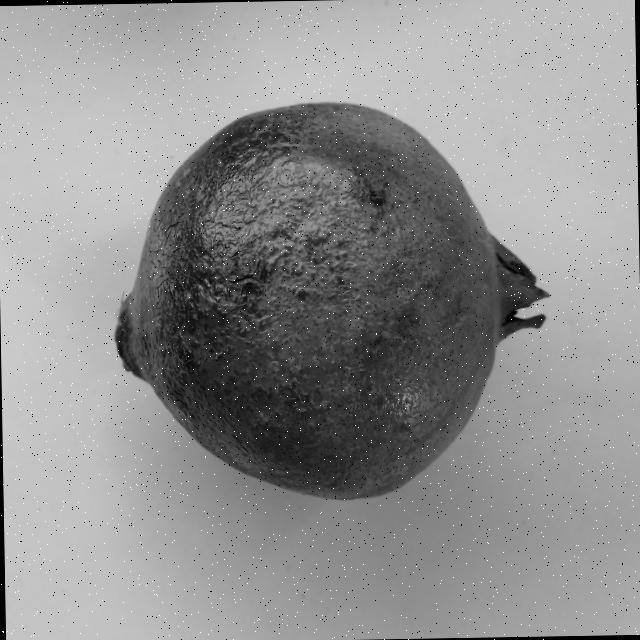overripe: (108, 88, 555, 514)
